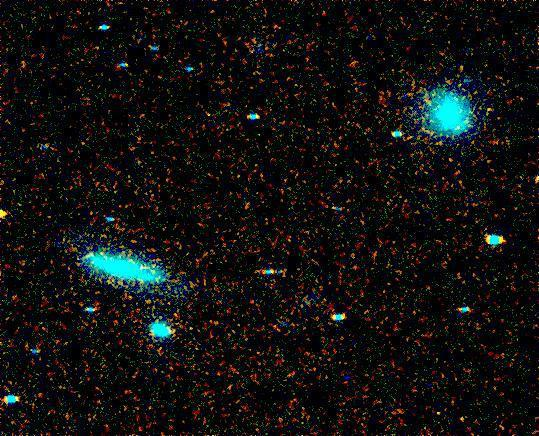star: (0, 199, 18, 229)
